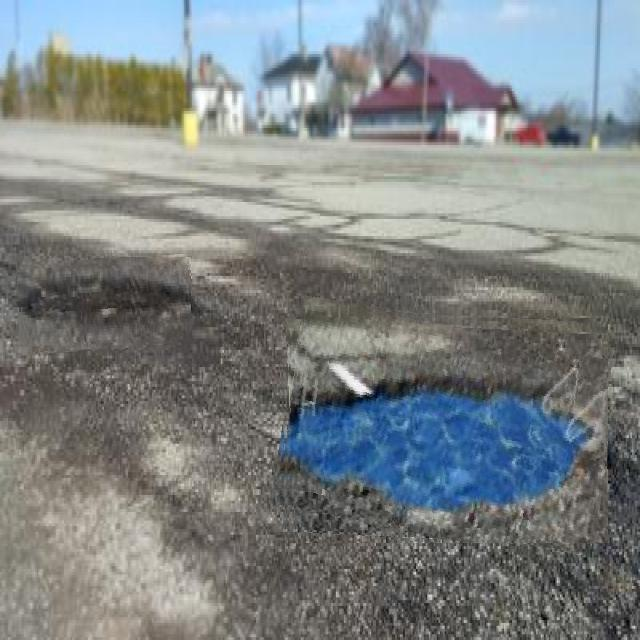Pothole: (278, 306, 608, 543), (18, 257, 191, 352)
